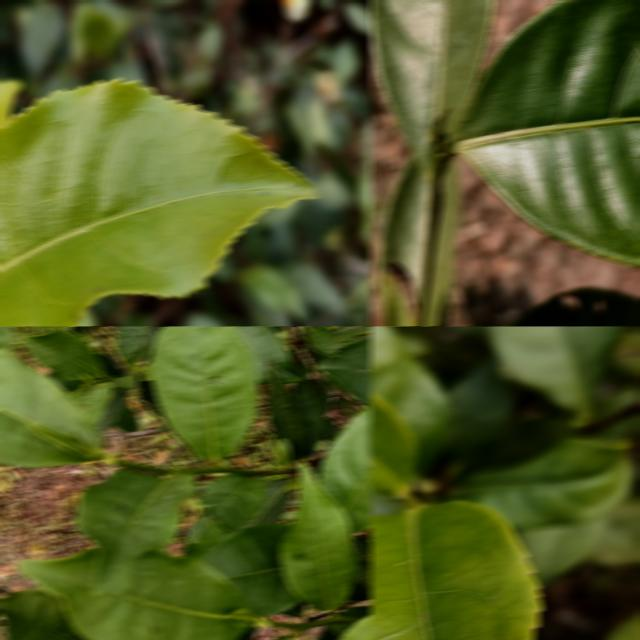Leaf: (0, 79, 316, 326), (450, 0, 640, 265), (370, 501, 542, 640), (370, 0, 497, 171), (23, 548, 251, 640), (454, 438, 635, 528), (141, 326, 259, 462), (74, 468, 198, 589), (484, 326, 619, 424), (0, 349, 106, 466), (278, 463, 359, 613), (370, 326, 451, 469), (377, 155, 431, 326), (201, 522, 299, 616), (182, 473, 267, 556), (318, 401, 372, 531), (446, 356, 515, 450), (424, 163, 462, 326), (505, 288, 640, 326), (0, 588, 88, 640), (21, 329, 104, 379), (238, 263, 306, 319), (233, 326, 301, 382), (265, 363, 303, 461), (315, 338, 372, 402), (17, 1, 66, 75), (291, 377, 327, 458), (68, 382, 112, 423), (114, 326, 161, 363), (307, 326, 357, 356), (356, 167, 372, 251), (350, 561, 372, 600), (107, 362, 138, 387)
